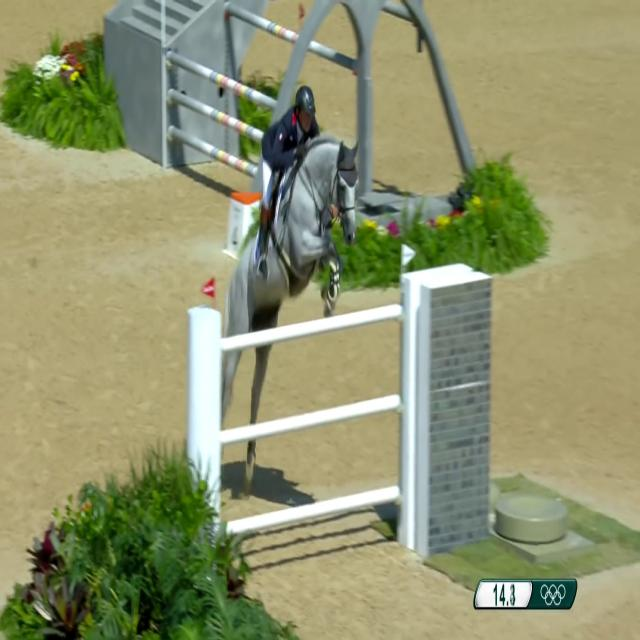Horse Jumping: (208, 117, 368, 497)
Horse Rider: (247, 70, 325, 299)
